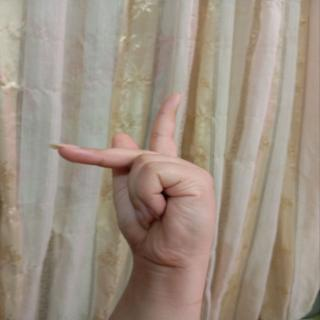DHAA: (49, 94, 240, 281)
